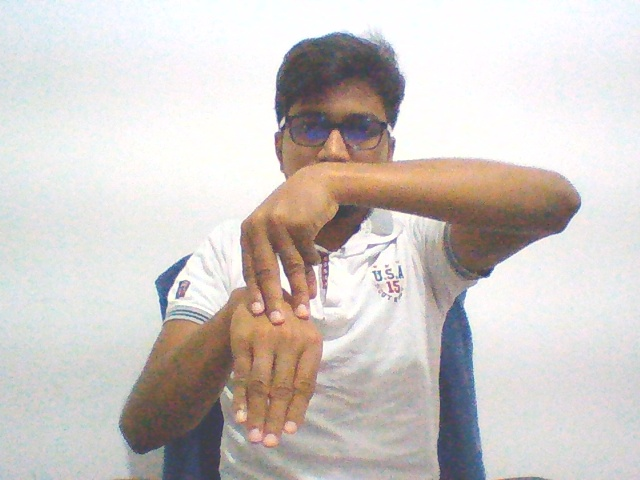papaya: (223, 152, 341, 453)
